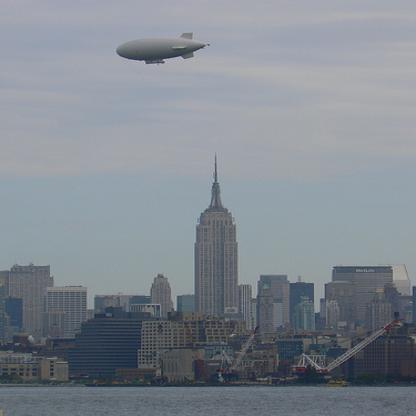Airship: (114, 30, 213, 71)
